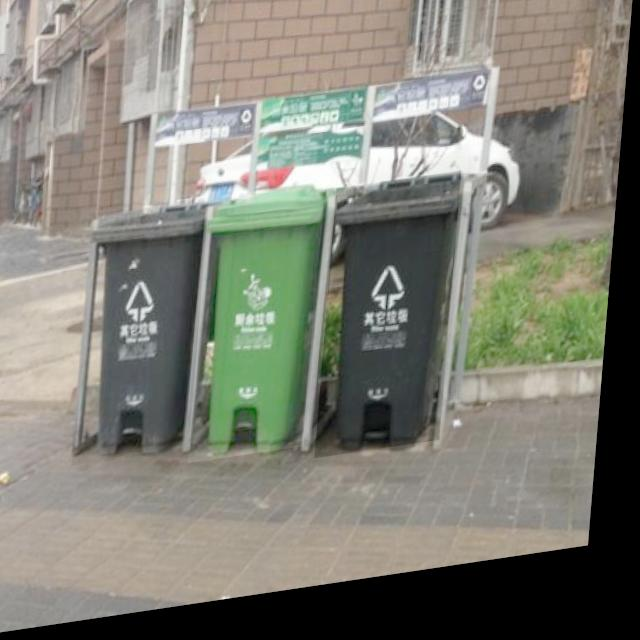garbage_bin: (323, 185, 466, 470), (80, 203, 222, 469), (196, 192, 329, 470)
